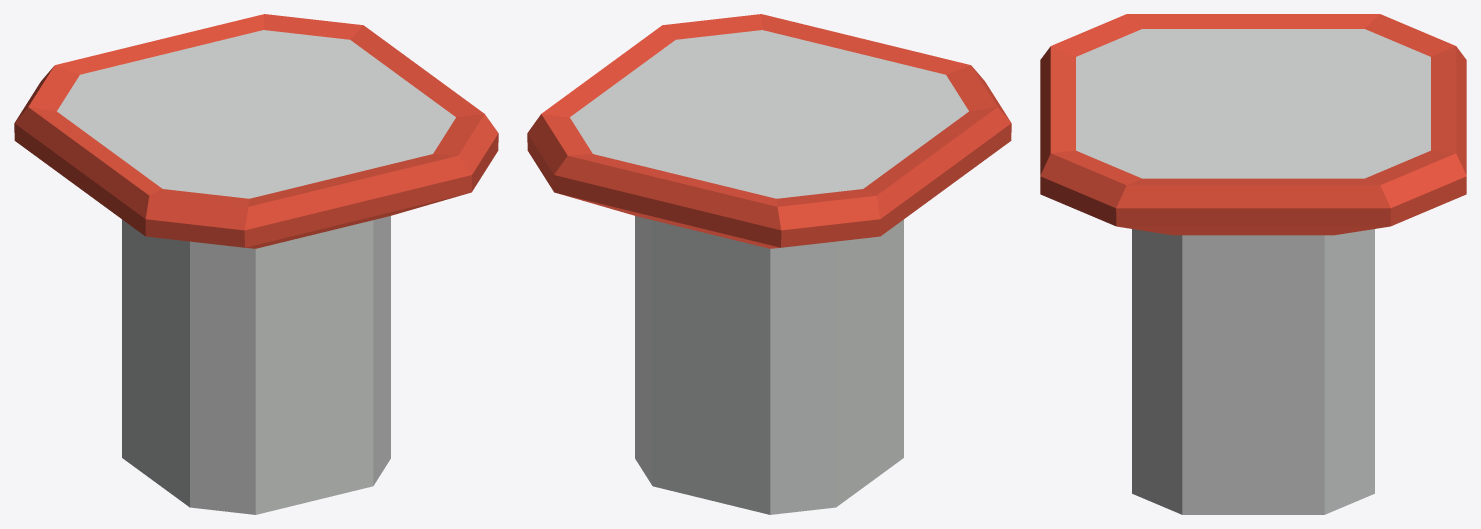
Rendered from Book Altar.fbx.
The picture shows the model from 3 angles, left to right: view 1: azimuth 30°, elevation 25°; view 2: azimuth 150°, elevation 25°; view 3: azimuth 270°, elevation 25°; orthographic projection. The views are drawn at different scales.
Visible parts, largest first — view 1: Cube; view 2: Cube; view 3: Cube.
Part boxes in pixels (x1=…): Cube: x1=14, y1=14, x2=498, y2=514; Cube: x1=527, y1=14, x2=1011, y2=514; Cube: x1=1040, y1=14, x2=1466, y2=514.
Size of the model in its own units: 182 by 171 by 182.
